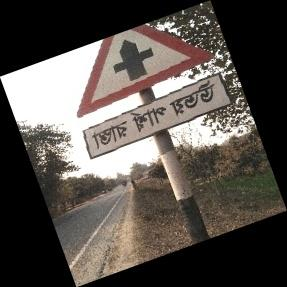Crossroad: (76, 21, 228, 171)
